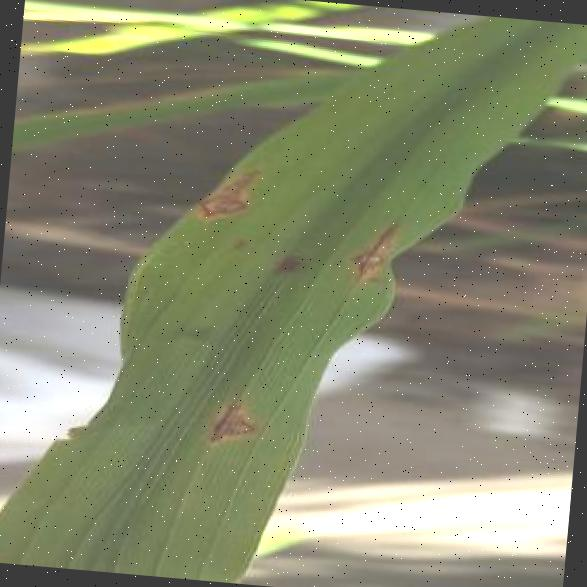Leaf_smut: (165, 143, 296, 246), (304, 190, 396, 294), (186, 379, 276, 470)
